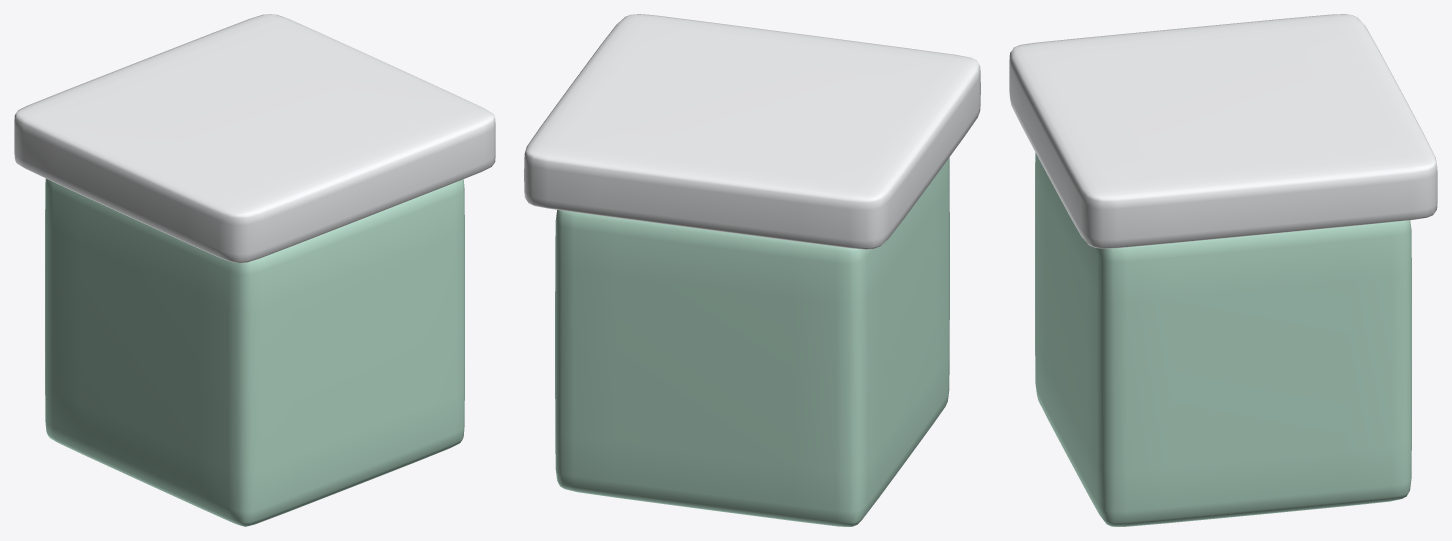
The model's file is PROP_TrashBin_v1.glb.
3 renders of one model, left to right at view 1: azimuth 30°, elevation 25°; view 2: azimuth 150°, elevation 25°; view 3: azimuth 270°, elevation 25°, orthographic. The views are drawn at different scales.
Parts seen in each view (by area): view 1: PROP_TrashBin_v1; view 2: PROP_TrashBin_v1; view 3: PROP_TrashBin_v1.
Part boxes in pixels (x1,y1,x2,y2): PROP_TrashBin_v1: [14, 14, 495, 526]; PROP_TrashBin_v1: [524, 14, 980, 526]; PROP_TrashBin_v1: [1009, 14, 1437, 526].
Size of the model in its own units: 1.37 by 1.2 by 1.33.
